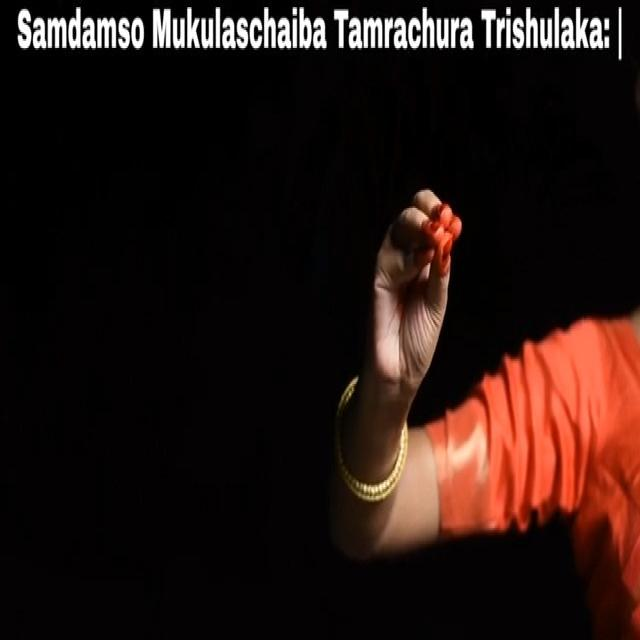Mukula: (357, 147, 478, 396)
bangle: (322, 385, 415, 509)
text: (4, 4, 630, 72)
